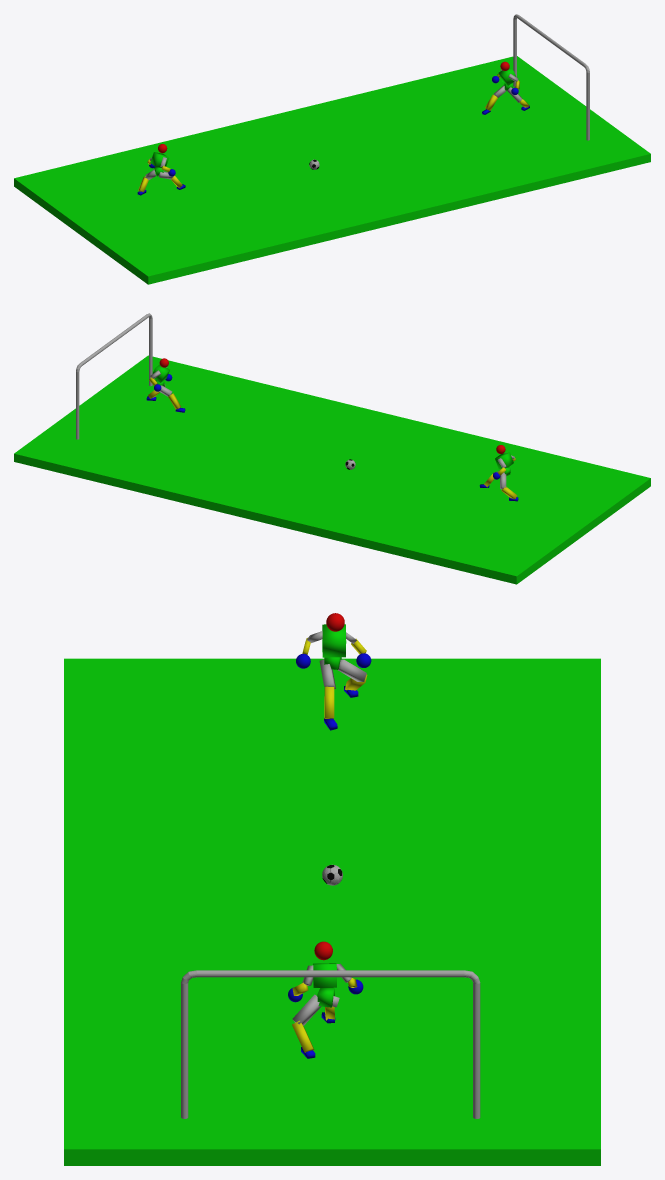
File: bge_ball_1.1.2_000017.obj
3 views of the same model, one above another, from view 1: azimuth 30°, elevation 25°; view 2: azimuth 150°, elevation 25°; view 3: azimuth 270°, elevation 25° (orthographic). The views are drawn at different scales.
Parts seen in each view (by area): view 1: solo_Cubo.025, gol; view 2: solo_Cubo.025, gol; view 3: solo_Cubo.025, gol.
Boxes of the visible parts, x1=… form: solo_Cubo.025: x1=14, y1=56, x2=650, y2=284; gol: x1=513, y1=14, x2=589, y2=140; solo_Cubo.025: x1=14, y1=355, x2=650, y2=584; gol: x1=76, y1=313, x2=152, y2=439; solo_Cubo.025: x1=64, y1=658, x2=600, y2=1165; gol: x1=181, y1=970, x2=480, y2=1118.
Bounding box in the file's own units: 37.8 × 5.87 × 17.47.
